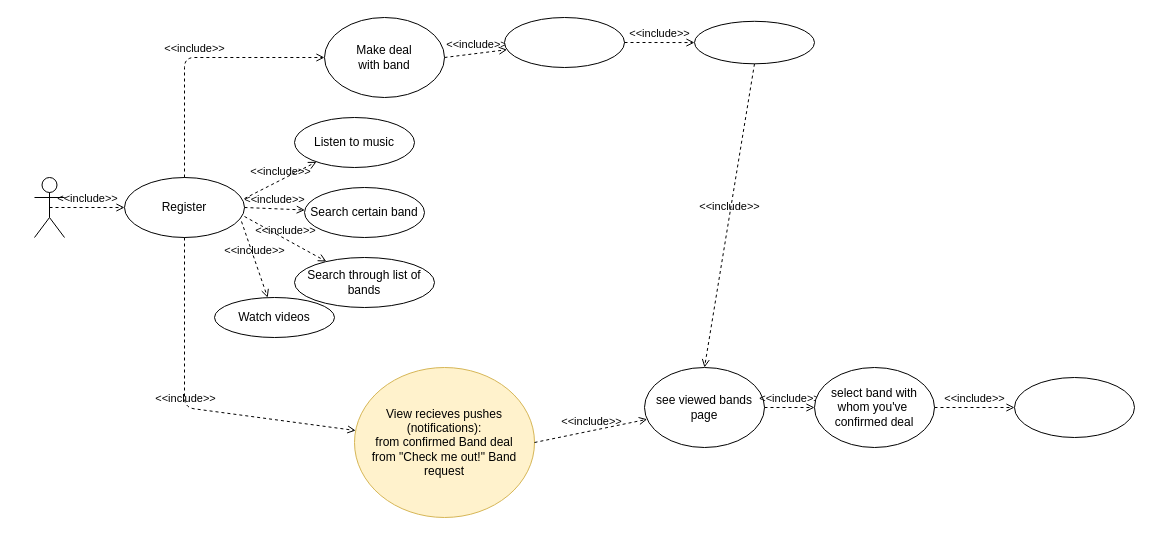
Image size: 1152x535. Some labels were removed from this diagram. Here are the shapes that lost their labels. From the top down, the box of each, then its label:
(504, 16, 624, 68): open contacts
(694, 20, 814, 64): arrange party
(34, 176, 64, 238): Client (cafe)
(1014, 376, 1134, 438): enter date of event
